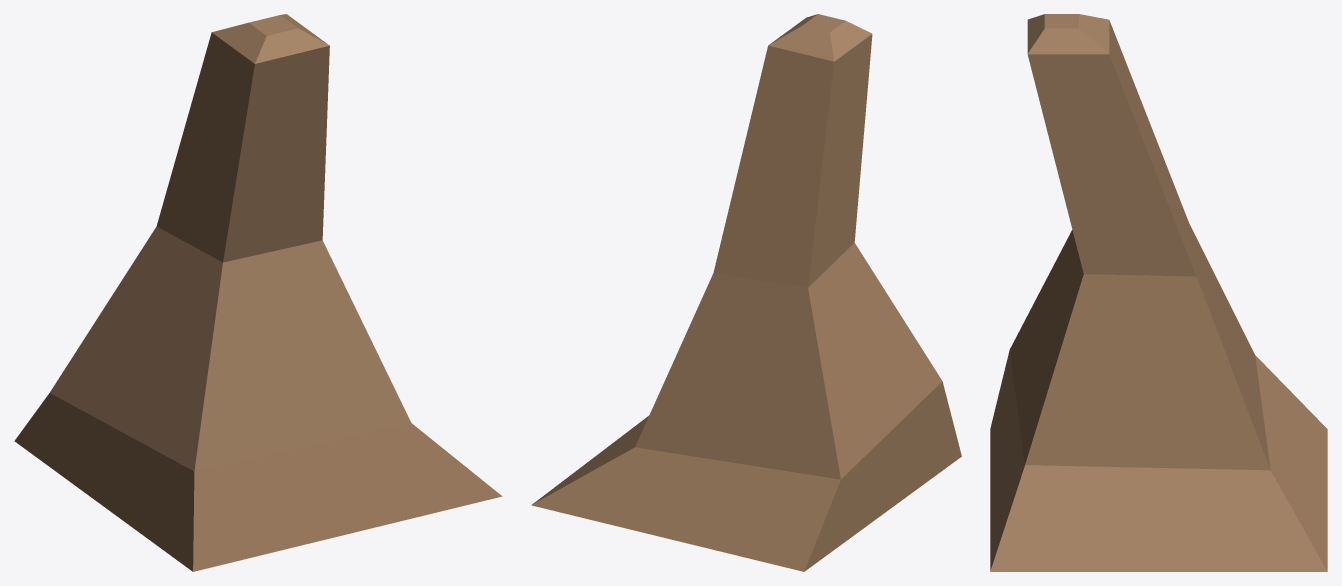
Rendered from rock3.fbx.
3 renders of one model, left to right at view 1: azimuth 30°, elevation 25°; view 2: azimuth 150°, elevation 25°; view 3: azimuth 270°, elevation 25°, orthographic. The views are drawn at different scales.
Visible parts, largest first — view 1: Rock; view 2: Rock; view 3: Rock.
Boxes of the visible parts, x1=… form: Rock: x1=14, y1=14, x2=502, y2=571; Rock: x1=531, y1=14, x2=961, y2=571; Rock: x1=990, y1=14, x2=1327, y2=571.
Size of the model in its own units: 277 by 414 by 274.
